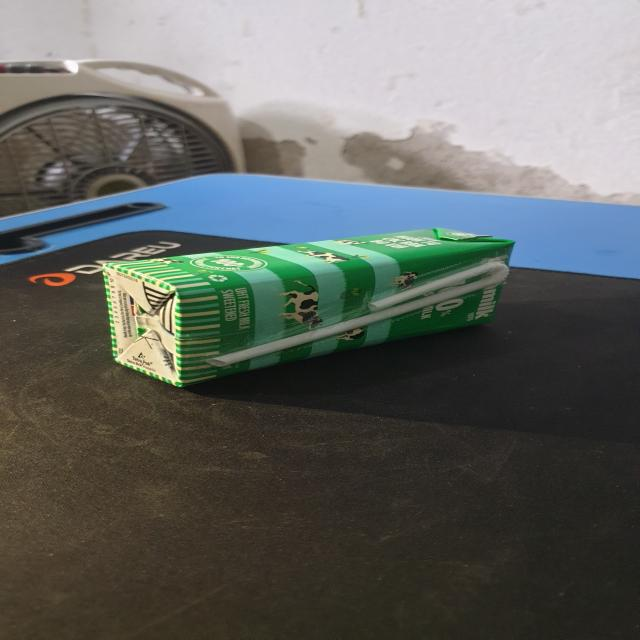Vina: (101, 227, 520, 391)
